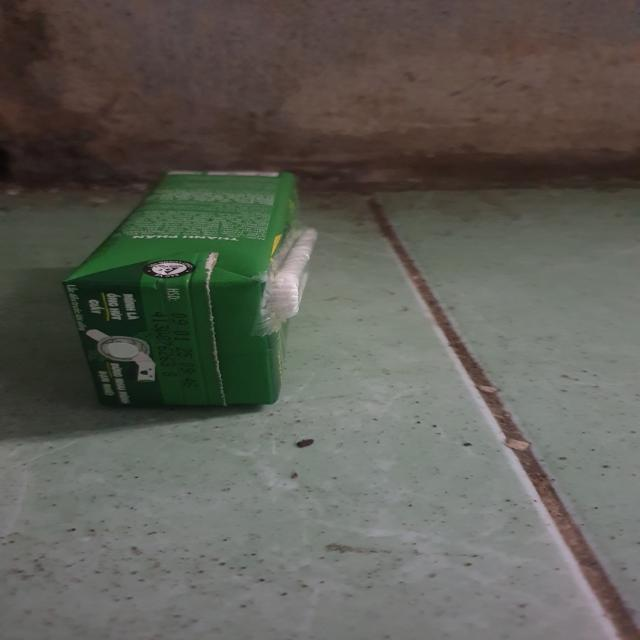Milo: (74, 163, 306, 410)
